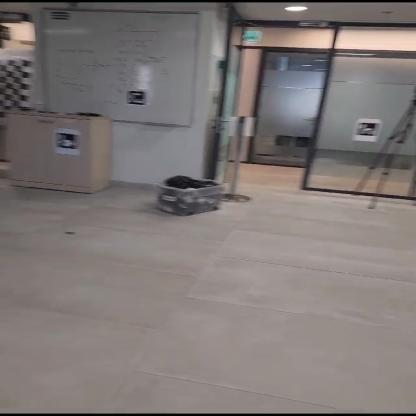open: (231, 51, 312, 194)
